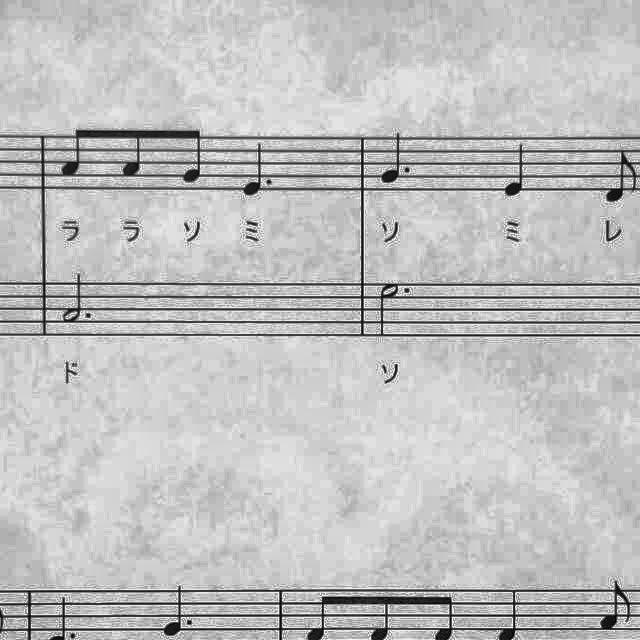Eighth-note: (599, 145, 640, 210), (56, 117, 92, 183), (178, 121, 212, 190), (596, 580, 636, 634), (117, 121, 151, 183), (639, 145, 640, 210)
Half-dot: (372, 278, 416, 340), (56, 270, 98, 326)
Quarter-dot: (372, 129, 416, 191), (158, 578, 198, 640), (240, 133, 276, 199)
Quarter-note: (498, 139, 534, 201)
